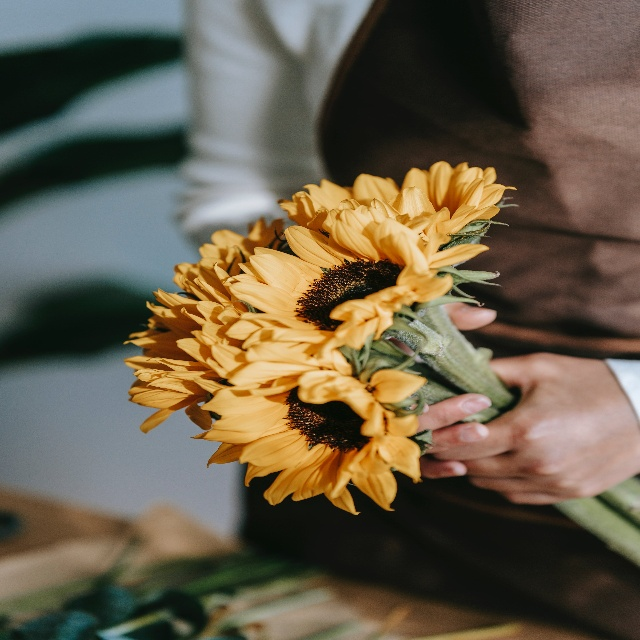Sin_guantes: (433, 351, 640, 508), (385, 293, 498, 479)
